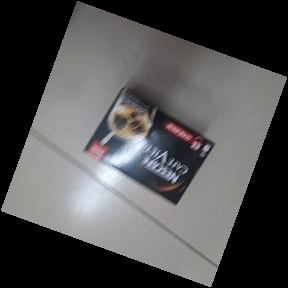CF Viet: (82, 86, 215, 205)
